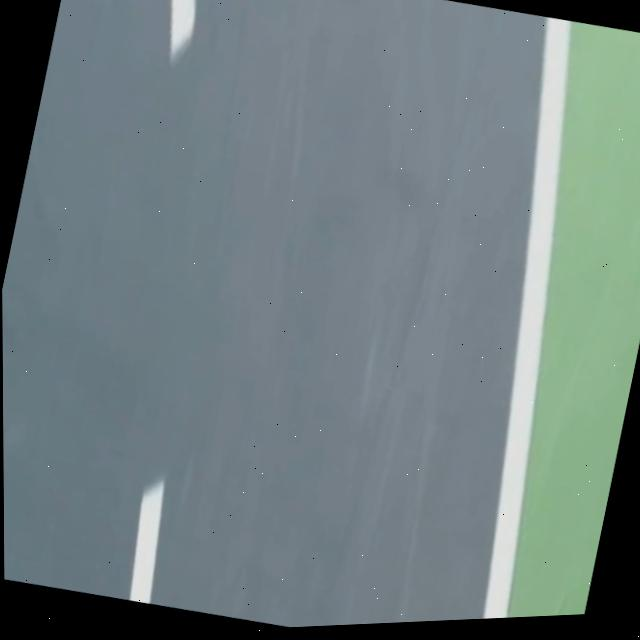center: (128, 481, 162, 603), (170, 0, 196, 61)
right: (482, 16, 570, 619)
